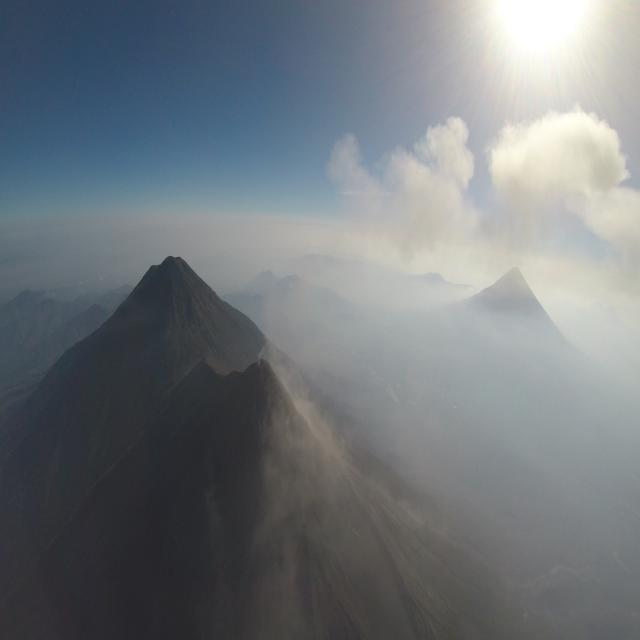Plume: (322, 113, 474, 270), (488, 110, 630, 216)
Summit: (243, 352, 280, 382)
